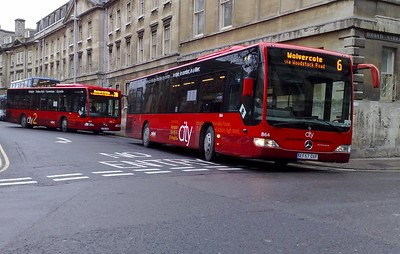bus: (124, 41, 380, 165), (5, 83, 122, 133)
